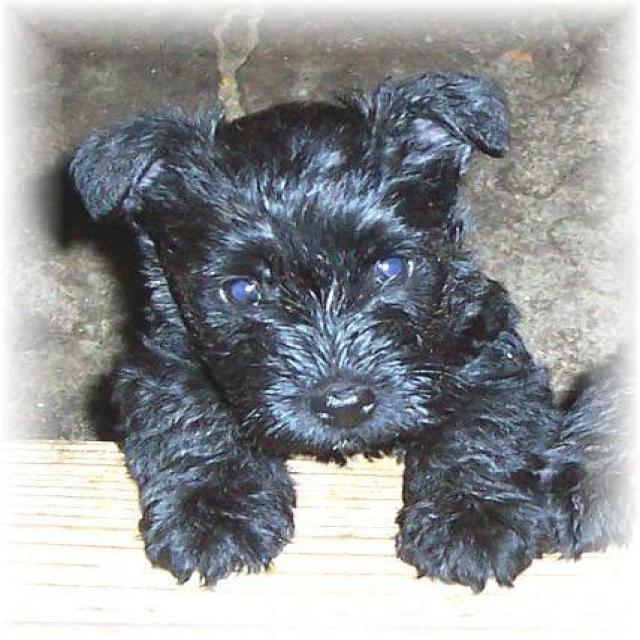Dog: (68, 68, 510, 465)
